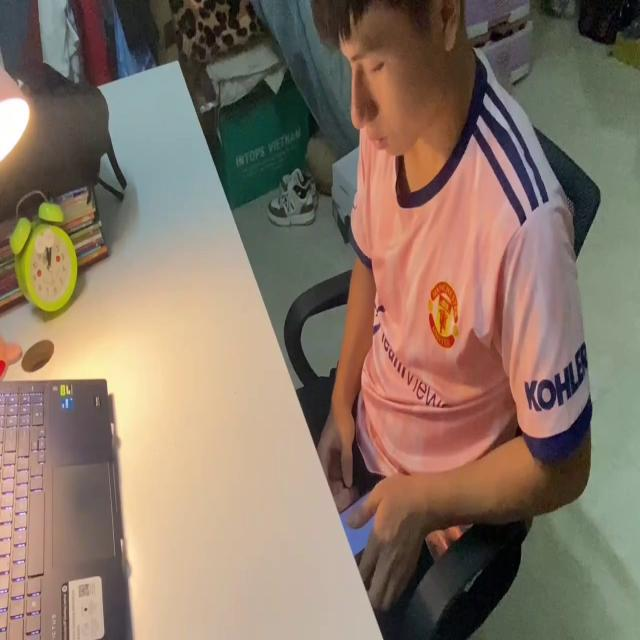laptop: (0, 374, 135, 640)
phone: (331, 482, 393, 562)
student: (306, 0, 596, 612)
